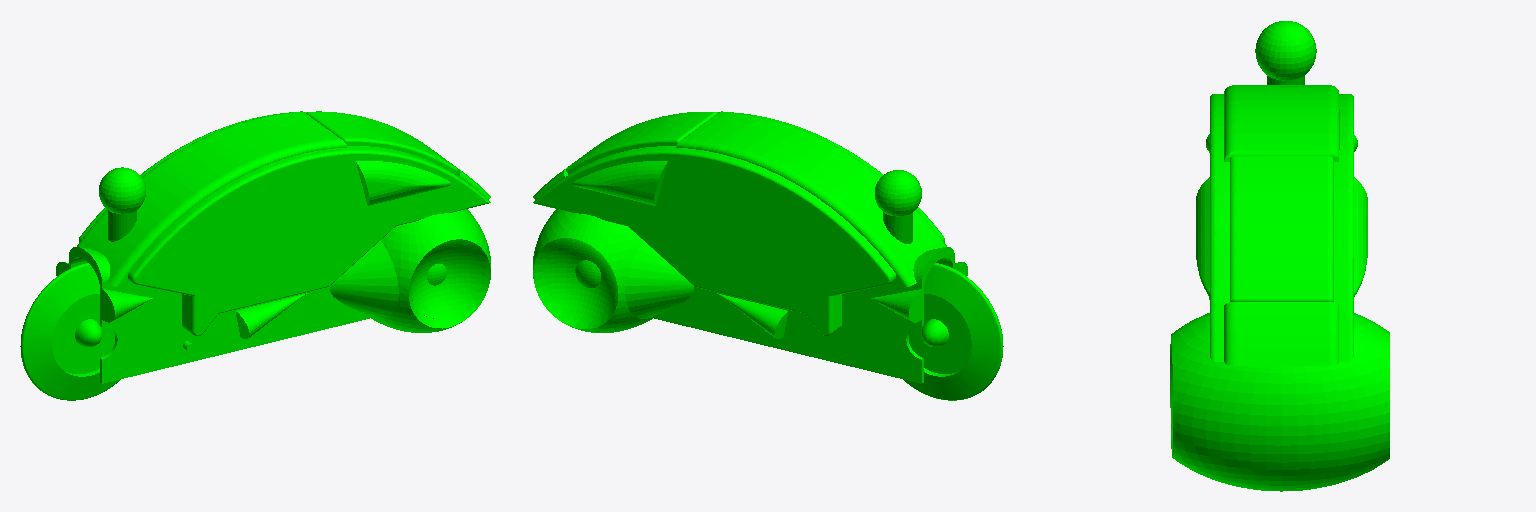
The robot description file, URDF, robot "hostile_agent":
<?xml version="1.0"?>
<robot name="hostile_agent">
  <!-- =============================================================================
       HOSTILE AGENT - AI-Controlled Sentinel Robot
       SLRC 2026 Competition | Contact: slrc@uom.lk
       Green (#00FF00) color for visual distinction
       ============================================================================= -->

  <!-- =========================
       Frames
       ========================= -->
  <link name="base_footprint"/>

  <joint name="base_footprint_to_base" type="fixed">
    <parent link="base_footprint"/>
    <child link="base_link"/>
    <origin xyz="0 0 0" rpy="0 0 0"/>
  </joint>

  <!-- =========================
       Base link
       ========================= -->
  <link name="base_link">
    <inertial>
      <origin xyz="0 0 0.041" rpy="0 0 0"/>
      <mass value="4.0"/>
      <inertia ixx="0.003387" ixy="0.0" ixz="0.0"
               iyy="0.012987" iyz="0.0"
               izz="0.012000"/>
    </inertial>

    <visual name="lightcycle_visual">
      <origin xyz="-0.09 0.027 0" rpy="1.57 0 0"/>
      <geometry>
        <mesh filename="package://slrc_tron_sim/meshes/lightcycle.STL" scale="0.001 0.001 0.0015"/>
      </geometry>
      <!-- Bright green hostile color -->
      <material name="hostile_green">
        <color rgba="0.0 1.0 0.0 1.0"/>
      </material>
    </visual>

    <collision name="chassis_bbox">
      <origin xyz="0 0 0.041" rpy="0 0 0"/>
      <geometry>
        <box size="0.18 0.06 0.081"/>
      </geometry>
    </collision>
  </link>

  <!-- =========================
       Wheels (Diff Drive)
       ========================= -->
  <link name="left_wheel_link">
    <inertial>
      <origin xyz="0 0 0" rpy="0 0 0"/>
      <mass value="0.2"/>
      <inertia ixx="0.0001" ixy="0" ixz="0"
               iyy="0.0001" iyz="0"
               izz="0.0001"/>
    </inertial>

    <collision name="left_wheel_col">
      <origin xyz="0 0 0" rpy="1.5708 0 0"/>
      <geometry>
        <cylinder radius="0.033" length="0.02"/>
      </geometry>
      <surface>
        <friction>
          <ode>
            <mu>1.0</mu>
            <mu2>1.0</mu2>
            <fdir1>1 0 0</fdir1>
          </ode>
        </friction>
      </surface>
    </collision>
  </link>

  <link name="right_wheel_link">
    <inertial>
      <origin xyz="0 0 0" rpy="0 0 0"/>
      <mass value="0.2"/>
      <inertia ixx="0.0001" ixy="0" ixz="0"
               iyy="0.0001" iyz="0"
               izz="0.0001"/>
    </inertial>

    <collision name="right_wheel_col">
      <origin xyz="0 0 0" rpy="1.5708 0 0"/>
      <geometry>
        <cylinder radius="0.033" length="0.02"/>
      </geometry>
      <surface>
        <friction>
          <ode>
            <mu>1.0</mu>
            <mu2>1.0</mu2>
            <fdir1>1 0 0</fdir1>
          </ode>
        </friction>
      </surface>
    </collision>
  </link>

  <joint name="left_wheel_joint" type="continuous">
    <parent link="base_link"/>
    <child link="left_wheel_link"/>
    <origin xyz="0.0 0.05 0.033" rpy="0 0 0"/>
    <axis xyz="0 1 0"/>
  </joint>

  <joint name="right_wheel_joint" type="continuous">
    <parent link="base_link"/>
    <child link="right_wheel_link"/>
    <origin xyz="0 -0.05 0.033" rpy="0 0 0"/>
    <axis xyz="0 1 0"/>
  </joint>

  <!-- =========================
       LED - Green glow for hostile
       ========================= -->
  <link name="led_link">
    <visual name="led_base_vis">
      <origin xyz="0 0 0.005" rpy="0 0 0"/>
      <geometry>
        <cylinder radius="0.005" length="0.015"/>
      </geometry>
      <material name="led_base_green">
        <color rgba="0.0 0.8 0.0 1.0"/>
      </material>
    </visual>

    <visual name="led_dome_vis">
      <origin xyz="0 0 0.015" rpy="0 0 0"/>
      <geometry>
        <sphere radius="0.008"/>
      </geometry>
      <material name="led_glow_green">
        <color rgba="0.0 1.0 0.0 1.0"/>
      </material>
    </visual>
  </link>

  <joint name="led_fixed" type="fixed">
    <parent link="base_link"/>
    <child link="led_link"/>
    <origin xyz="-0.05 0 0.058" rpy="0 0 0"/>
  </joint>

  <!-- =========================
       IMU frame (for odometry)
       ========================= -->
  <link name="imu_link"/>
  <joint name="imu_fixed" type="fixed">
    <parent link="base_link"/>
    <child link="imu_link"/>
    <origin xyz="0 0 0.35" rpy="0 0 0"/>
  </joint>

  <!-- =========================================================
       Gazebo Sim (Ignition): Plugins
       No cameras needed - AI-controlled robot
       ========================================================= -->

  <gazebo>
    <plugin
      filename="libignition-gazebo-diff-drive-system.so"
      name="ignition::gazebo::systems::DiffDrive">
      <left_joint>left_wheel_joint</left_joint>
      <right_joint>right_wheel_joint</right_joint>

      <wheel_separation>0.1</wheel_separation>
      <wheel_radius>0.033</wheel_radius>

      <topic>/hostile/cmd_vel</topic>
      <odom_topic>/hostile/odom</odom_topic>
      <tf_topic>/hostile/tf</tf_topic>
      <frame_id>odom</frame_id>
      <child_frame_id>base_footprint</child_frame_id>
      <odom_publish_frequency>100</odom_publish_frequency>

      <max_linear_acceleration>5</max_linear_acceleration>
      <max_angular_acceleration>10</max_angular_acceleration>
    </plugin>
  </gazebo>

</robot>

--- Facts derived from the render (not from the file) ---
Views: 3 orthographic renders of the robot side by side, from view 1: azimuth 30°, elevation 25°; view 2: azimuth 150°, elevation 25°; view 3: azimuth 270°, elevation 25°.
Robot: hostile_agent — 6 links, 5 joints (2 continuous, 3 fixed); root link base_footprint; default pose: all joints at 0.
Visible links, largest first — view 1: base_link, led_link; view 2: base_link, led_link; view 3: base_link, led_link.
Boxes of the visible links, x1,y1,x2,y2 form: base_link: (20,111,490,400); led_link: (99,167,145,241); base_link: (533,111,1003,400); led_link: (875,170,921,243); base_link: (1170,85,1389,491); led_link: (1255,21,1316,84).
Bounding box of the posed robot: 0.1749 × 0.0572 × 0.0814 m (x, y, z).
1 mesh visuals loaded from 1 distinct referenced files (1 binary STL).
